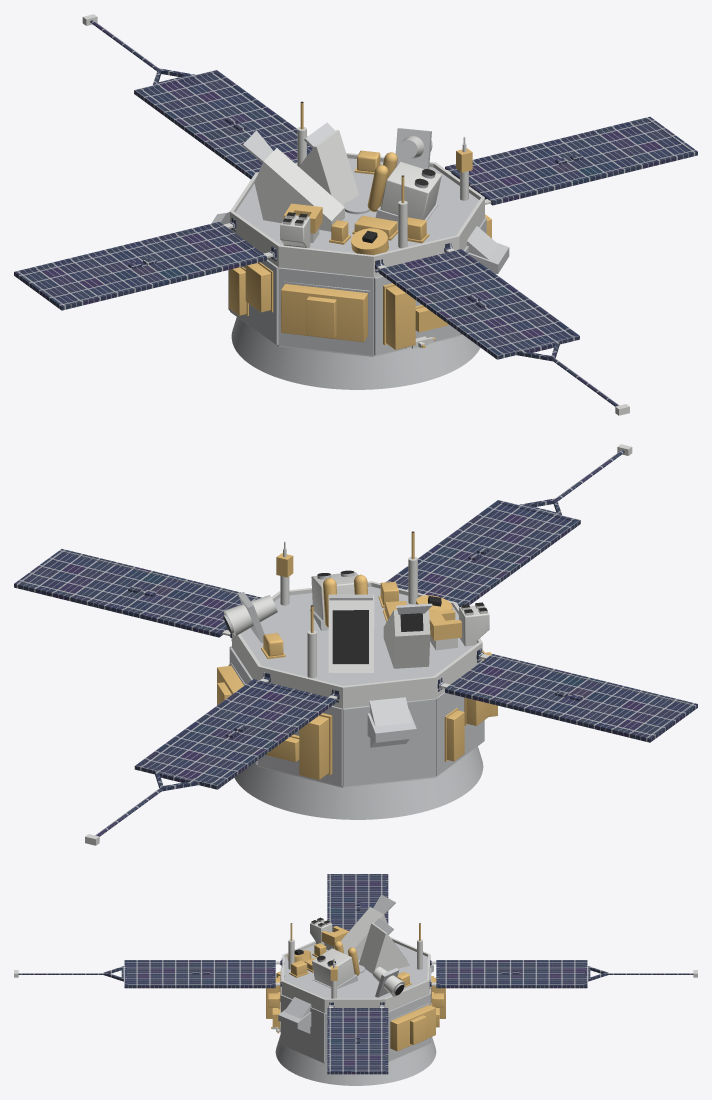
The model's file is ace.glb.
The picture shows the model from 3 angles, top to bottom: view 1: azimuth 30°, elevation 25°; view 2: azimuth 150°, elevation 25°; view 3: azimuth 270°, elevation 25°; orthographic projection. The views are drawn at different scales.
Parts seen in each view (by area): view 1: Layer_0; view 2: Layer_0; view 3: Layer_0.
Boxes of the visible parts, bbox=[...] form: Layer_0: bbox=[14, 14, 697, 415]; Layer_0: bbox=[14, 444, 697, 845]; Layer_0: bbox=[14, 874, 697, 1085].
Size of the model in its own units: 5.69 by 1.72 by 8.3.
5 materials, 1 textured.
